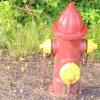a fire hydrant: (51, 2, 86, 89)
